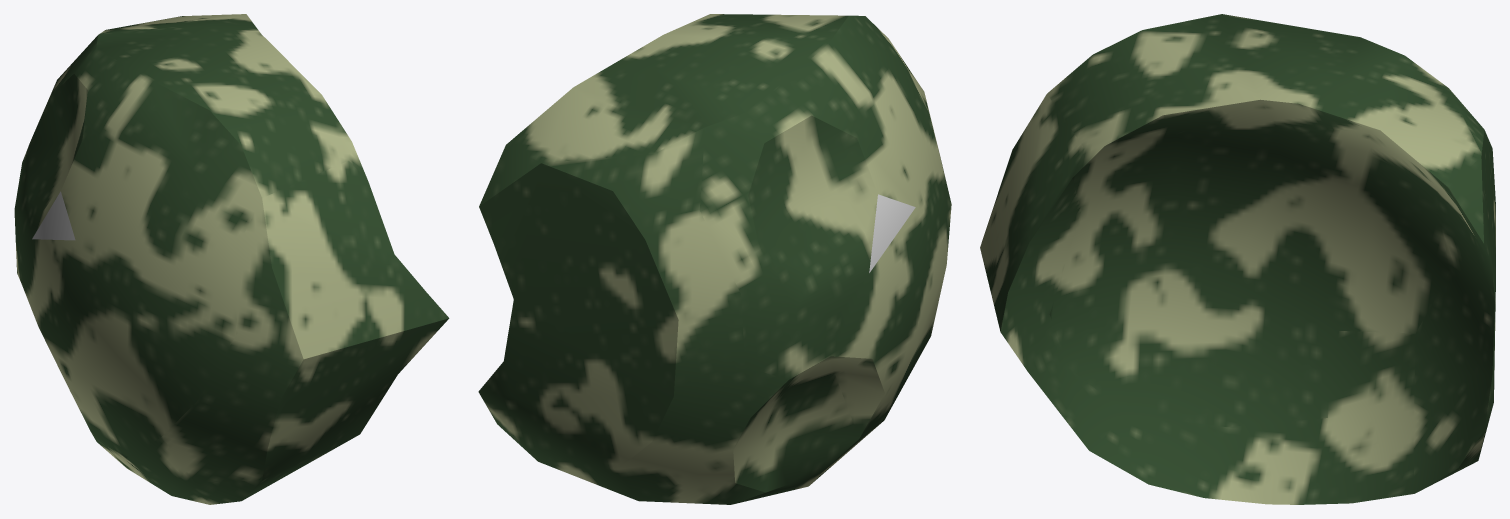
File: link_body_16.obj
The picture shows the model from 3 angles, left to right: view 1: azimuth 30°, elevation 25°; view 2: azimuth 150°, elevation 25°; view 3: azimuth 270°, elevation 25°; orthographic projection. The views are drawn at different scales.
Parts seen in each view (by area): view 1: link_body_16; view 2: link_body_16; view 3: link_body_16.
Boxes of the visible parts, x1,y1,x2,y2 form: link_body_16: [14, 14, 449, 504]; link_body_16: [478, 14, 951, 504]; link_body_16: [980, 14, 1495, 504].
Bounding box in the file's own units: 9.72 × 12.78 × 13.9.
